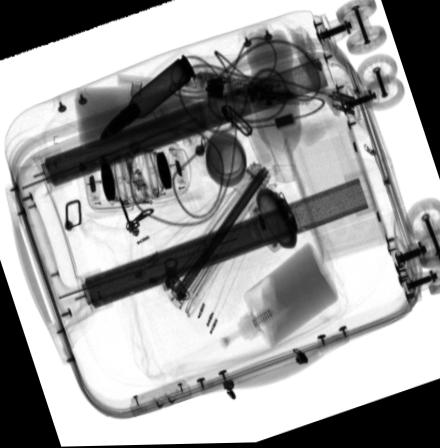Bullet: (99, 55, 196, 141)
